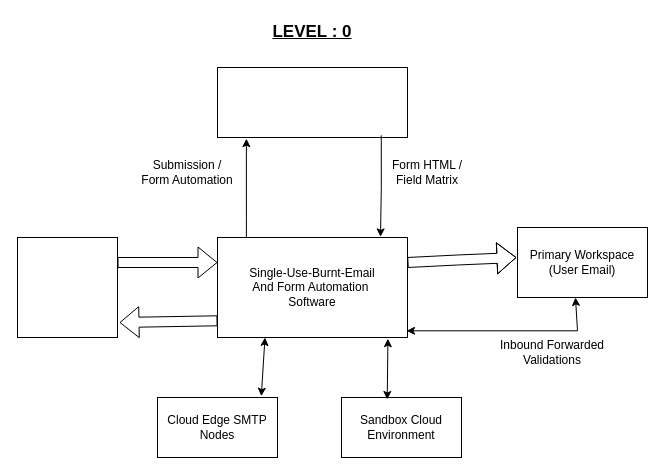
This 665x475 diagram has some shape labels left out. The centre of each missing label's shape, as x and y in pixels:
Automation Engineer And Operator: point 67,287
External Webpage: point 312,102
